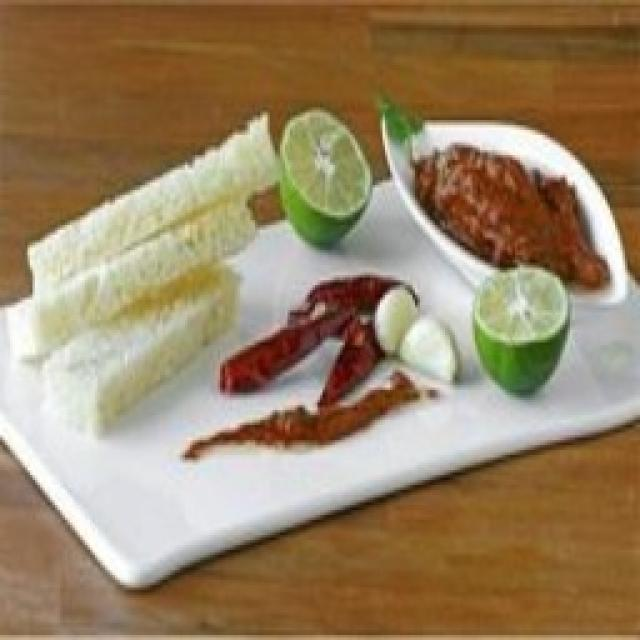Harissa: (414, 144, 609, 288)
